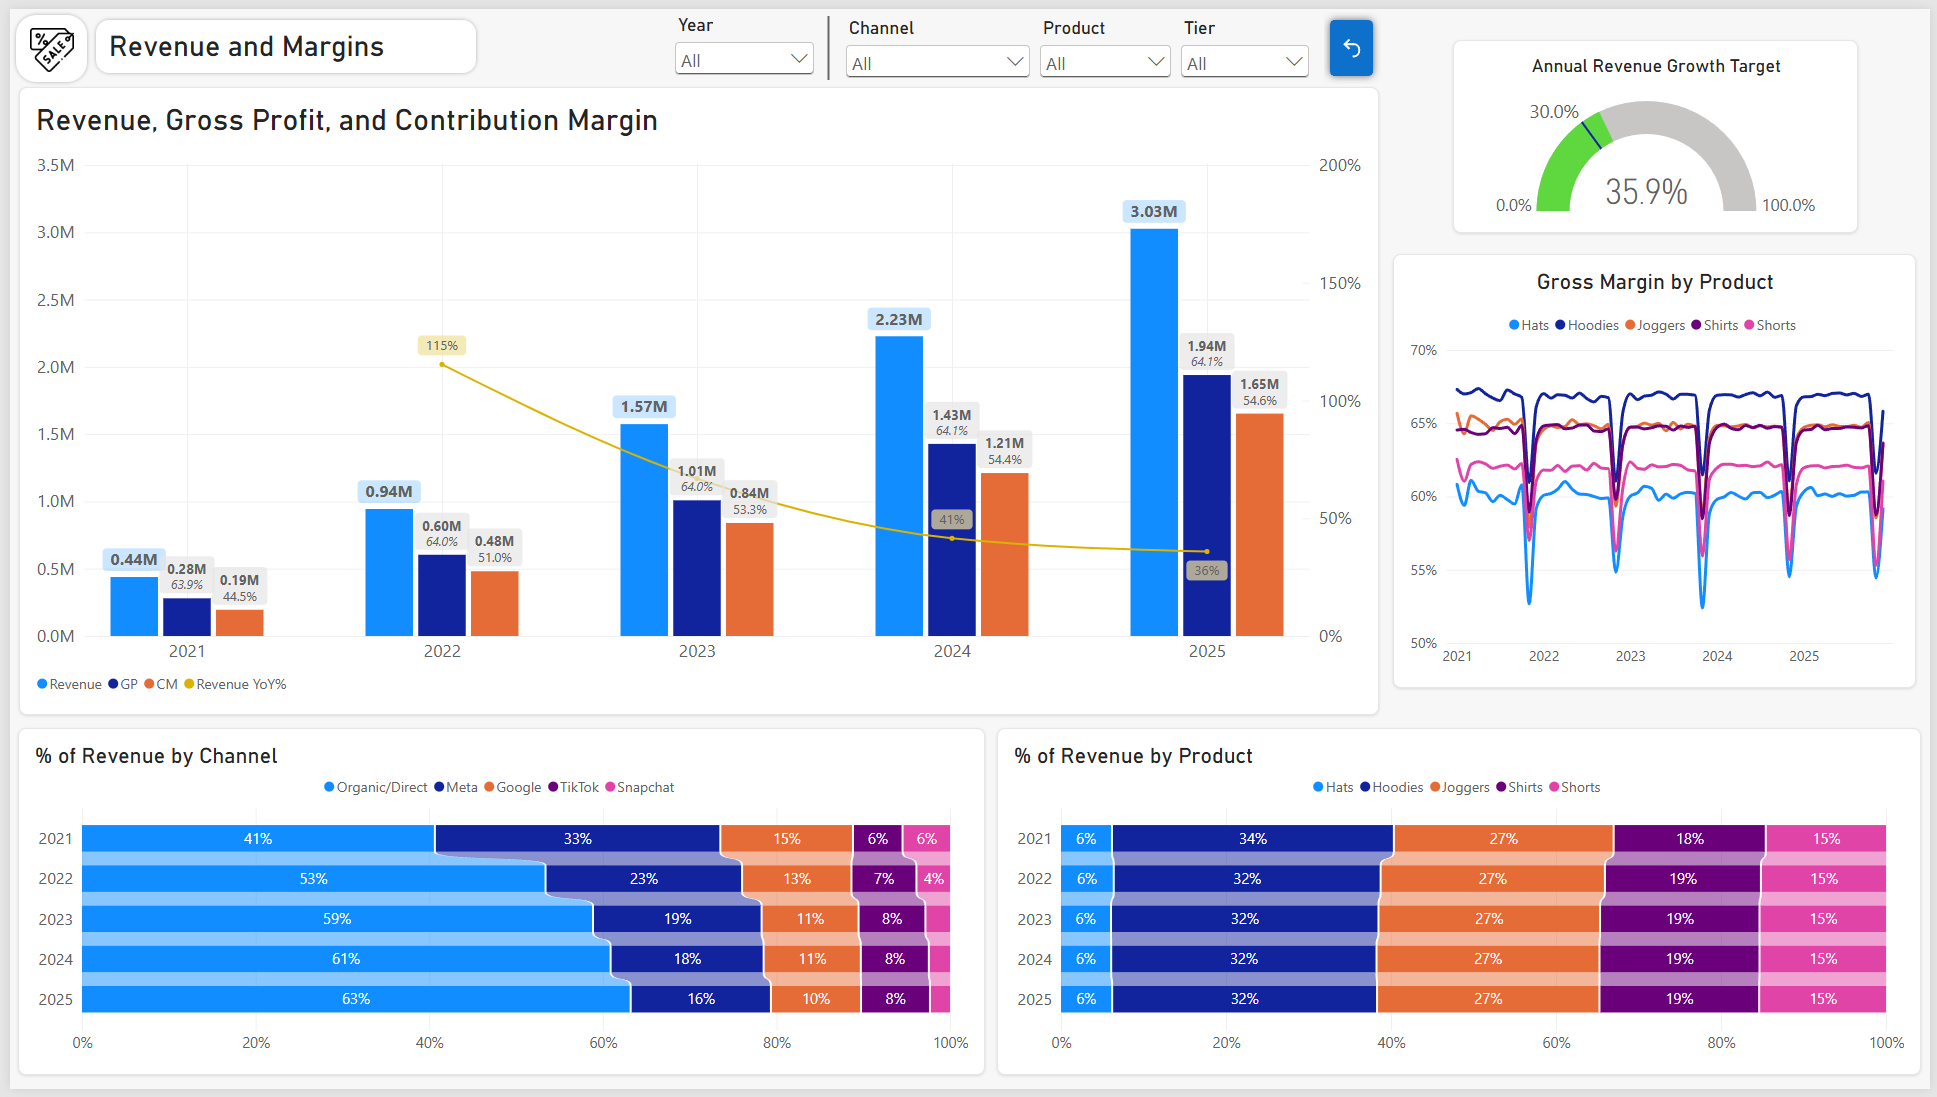

Layout of this report page (visuals, bound fields, positions):
{"tool":"powerbi","page":{"name":"Revenue and Margins","canvas":[1920,1080],"ordinal":1},"visuals":[{"type":"shape","box":[2,2,79.2,74.6],"z":0},{"type":"hundredPercentStackedBarChart","title":"% of Revenue by Channel","fields":{"Y":["Sum(dtc fact_orders.net_revenue)"],"Category":["dtc dim_date.date.Variation.Date Hierarchy.Year","dtc dim_date.date.Variation.Date Hierarchy.Quarter","dtc dim_date.date.Variation.Date Hierarchy.Month","dtc dim_date.date.Variation.Date Hierarchy.Day"],"Series":["dtc dim_channel.channel_name"]},"box":[8.2,719.4,966.7,346.9],"z":1000},{"type":"hundredPercentStackedBarChart","title":"% of Revenue by Product","fields":{"Series":["dtc dim_product.product_name"],"Y":["Sum(dtc fact_orders.net_revenue)"],"Category":["dtc dim_date.date.Variation.Date Hierarchy.Year","dtc dim_date.date.Variation.Date Hierarchy.Quarter","dtc dim_date.date.Variation.Date Hierarchy.Month","dtc dim_date.date.Variation.Date Hierarchy.Day"]},"box":[987.2,719.4,923.6,346.9],"z":2000},{"type":"lineChart","title":"Gross Margin by Product","fields":{"Y":["dtc fact_orders.Gross Margin"],"Series":["dtc dim_product.product_name"],"Category":["dtc dim_date.date.Variation.Date Hierarchy.Year","dtc dim_date.date.Variation.Date Hierarchy.Month"]},"box":[1383.4,245.1,522.7,433.8],"z":3000},{"type":"lineClusteredColumnComboChart","title":"Revenue, Gross Profit, and Contribution Margin","fields":{"Category":["dtc dim_date.date.Variation.Date Hierarchy.Year","dtc dim_date.date.Variation.Date Hierarchy.Quarter","dtc dim_date.date.Variation.Date Hierarchy.Month","dtc dim_date.date.Variation.Date Hierarchy.Day"],"Y":["Sum(dtc fact_orders.net_revenue)","Sum(dtc fact_orders.gross_profit)","dtc fact_orders.Dynamic CM"],"Y2":["dtc fact_orders.Revenue YoY%"]},"box":[8.9,77.8,1360,627.8],"z":4000},{"type":"slicer","fields":{"Values":["dtc dim_product.product_name"]},"box":[1024.8,7.9,140.7,71.3],"z":5000},{"type":"slicer","fields":{"Values":["dtc dim_product.tier"]},"box":[1165.6,7.9,138.8,71.3],"z":6000},{"type":"slicer","fields":{"Values":["dtc dim_channel.channel_name"]},"box":[830.8,7.9,194,71.3],"z":7000},{"type":"actionButton","title":"Reset","box":[1312.5,3.1,58.5,71.8],"z":8000},{"type":"shape","box":[82,7,388.3,61.3],"z":9000},{"type":"textbox","box":[99,20,350,39.5],"z":10000},{"type":"gauge","title":"Annual Revenue Growth Target","fields":{"TargetValue":["dtc fact_orders.Target Growth Rate"],"Y":["dtc fact_orders.Revenue YoY% (Default Latest Yr)"]},"box":[1442.7,30.6,405.1,193.7],"z":11000},{"type":"image","box":[4.9,18.8,74.1,44.5],"z":12000},{"type":"slicer","fields":{"Values":["dtc dim_date.date.Variation.Date Hierarchy.Year"]},"box":[659.6,5.5,149.2,71.1],"z":13000},{"type":"shape","box":[810.3,6.9,16.8,64.2],"z":14000}]}

Visuals, with their boxes in screenshot pixels (x1, y1, x2, y2), scaled from the page's 1920x1080 canvas onto the 1937x1097 screenshot:
shape: 2:2:82:78
"% of Revenue by Channel" hundredPercentStackedBarChart: 8:731:984:1083
"% of Revenue by Product" hundredPercentStackedBarChart: 996:731:1928:1083
"Gross Margin by Product" lineChart: 1396:249:1923:690
"Revenue, Gross Profit, and Contribution Margin" lineClusteredColumnComboChart: 9:79:1381:717
slicer - dtc dim_product.product_name: 1034:8:1176:80
slicer - dtc dim_product.tier: 1176:8:1316:80
slicer - dtc dim_channel.channel_name: 838:8:1034:80
"Reset" actionButton: 1324:3:1383:76
shape: 83:7:474:69
textbox: 100:20:453:60
"Annual Revenue Growth Target" gauge: 1455:31:1864:228
image: 5:19:80:64
slicer - dtc dim_date.date.Variation.Date Hierarchy.Year: 665:6:816:78
shape: 817:7:834:72
